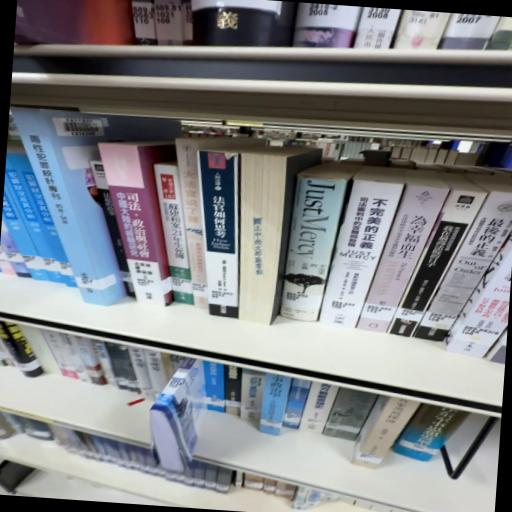backward: (240, 147, 322, 326)
